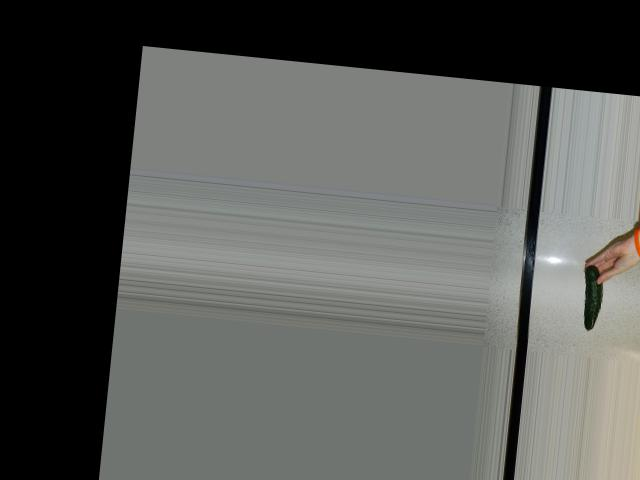cucumber: (578, 264, 604, 332)
